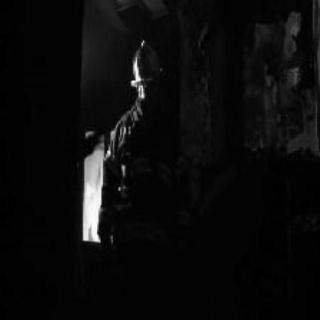other: (84, 173, 101, 239)
